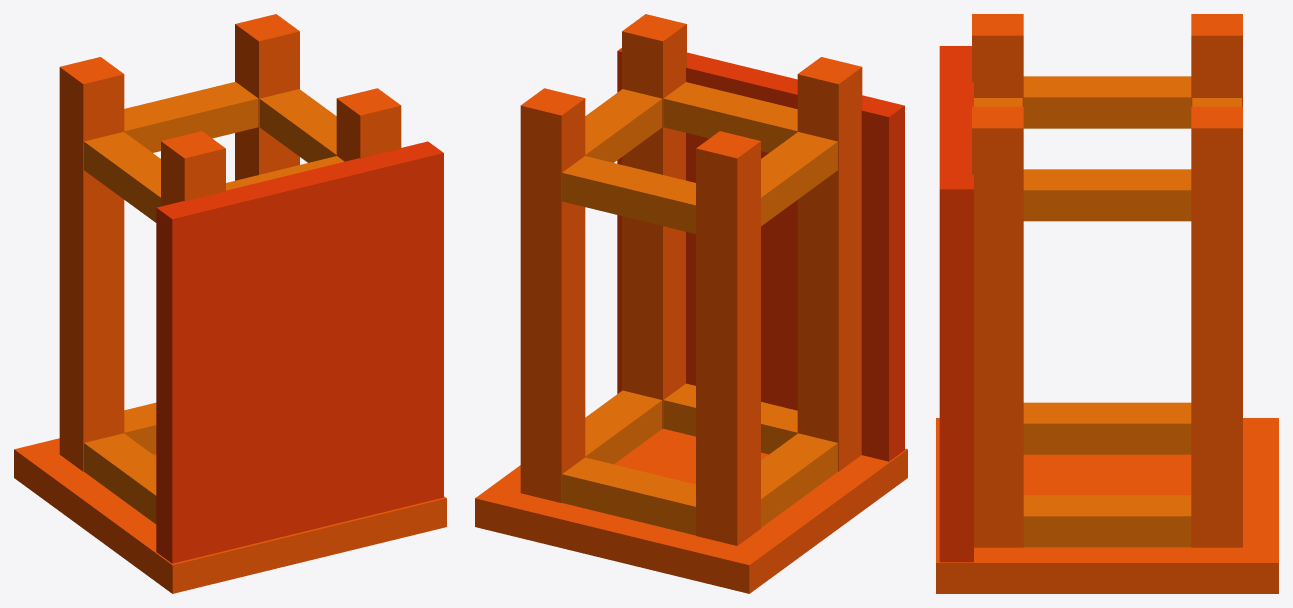
Rendered from ConnerChair.FBX.
The picture shows the model from 3 angles, left to right: view 1: azimuth 30°, elevation 25°; view 2: azimuth 150°, elevation 25°; view 3: azimuth 270°, elevation 25°; orthographic projection. The views are drawn at different scales.
Visible parts, largest first — view 1: Box010, Box005, Box001, Box002, Box011, Box012, Box009, Box013, Box003, Box004, Box006, Box014; view 2: Box010, Box005, Box002, Box001, Box004, Box003, Box006, Box011, Box014, Box009, Box012, Box008 (+2 smaller); view 3: Box001, Box002, Box003, Box010, Box012, Box008, Box009, Box013, Box005, Box004.
Part boxes in pixels (x1,y1,x2,y2): Box010: (156,141,443,563); Box005: (59,57,124,471); Box001: (14,438,446,593); Box002: (235,14,299,180); Box011: (124,82,258,152); Box012: (84,132,160,222); Box009: (84,433,156,524); Box013: (259,89,336,162); Box003: (336,88,401,161); Box004: (161,131,225,206); Box006: (124,402,156,454); Box014: (226,156,344,190); Box010: (617,48,904,461); Box005: (696,131,760,545); Box002: (520,88,585,502); Box001: (475,428,907,593); Box004: (797,57,862,471); Box003: (622,14,686,428); Box006: (562,457,695,535); Box011: (562,156,695,233); Box014: (663,82,797,152); Box009: (761,433,837,527); Box012: (761,132,837,226); Box008: (585,390,662,464); Box001: (936,418,1278,593); Box002: (1191,106,1242,547); Box003: (972,106,1023,547); Box010: (939,46,973,562); Box012: (1023,76,1191,128); Box008: (1023,495,1191,547); Box009: (1023,402,1191,454); Box013: (1023,169,1191,221); Box005: (1191,14,1242,106); Box004: (972,14,1023,106).
Size of the model in its own units: 100 by 145 by 100.
